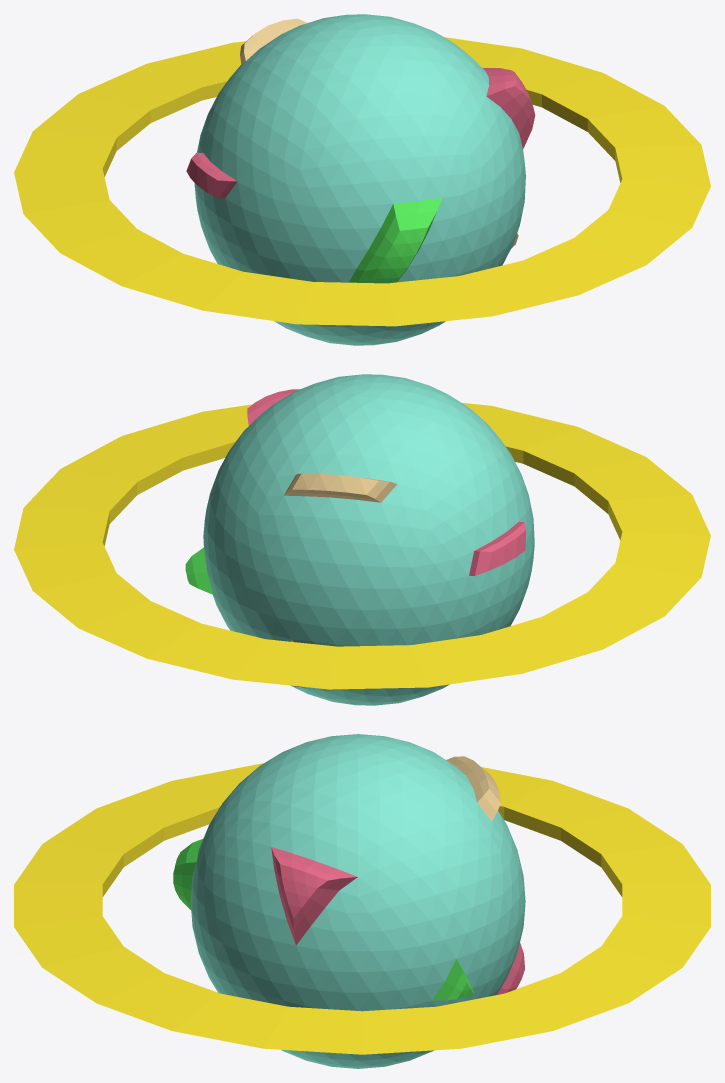
File: plannet2.fbx
3 views of the same model, one above another, from view 1: azimuth 30°, elevation 25°; view 2: azimuth 150°, elevation 25°; view 3: azimuth 270°, elevation 25° (orthographic).
Parts seen in each view (by area): view 1: planet.2, belt.2; view 2: planet.2, belt.2; view 3: planet.2, belt.2.
Boxes of the visible parts, left/top/right/bottom form: planet.2: left=186, top=14, right=535, bottom=345; belt.2: left=14, top=37, right=710, bottom=326; planet.2: left=185, top=374, right=534, bottom=705; belt.2: left=14, top=403, right=710, bottom=689; planet.2: left=173, top=734, right=525, bottom=1068; belt.2: left=14, top=763, right=710, bottom=1054.
Size of the model in its own units: 4024 by 1914 by 3983.
